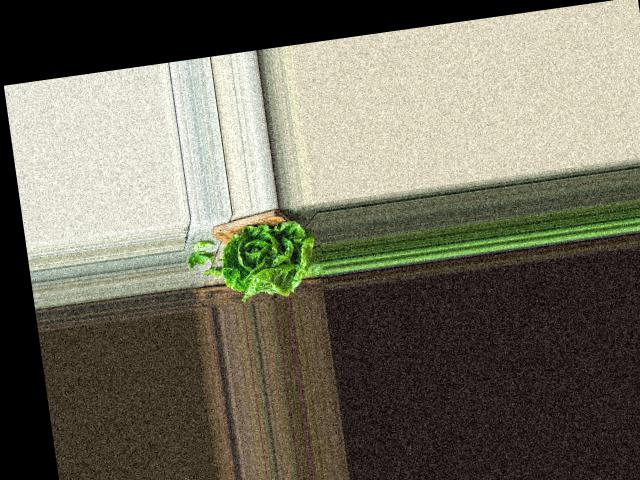lettuce: (220, 212, 323, 301)
